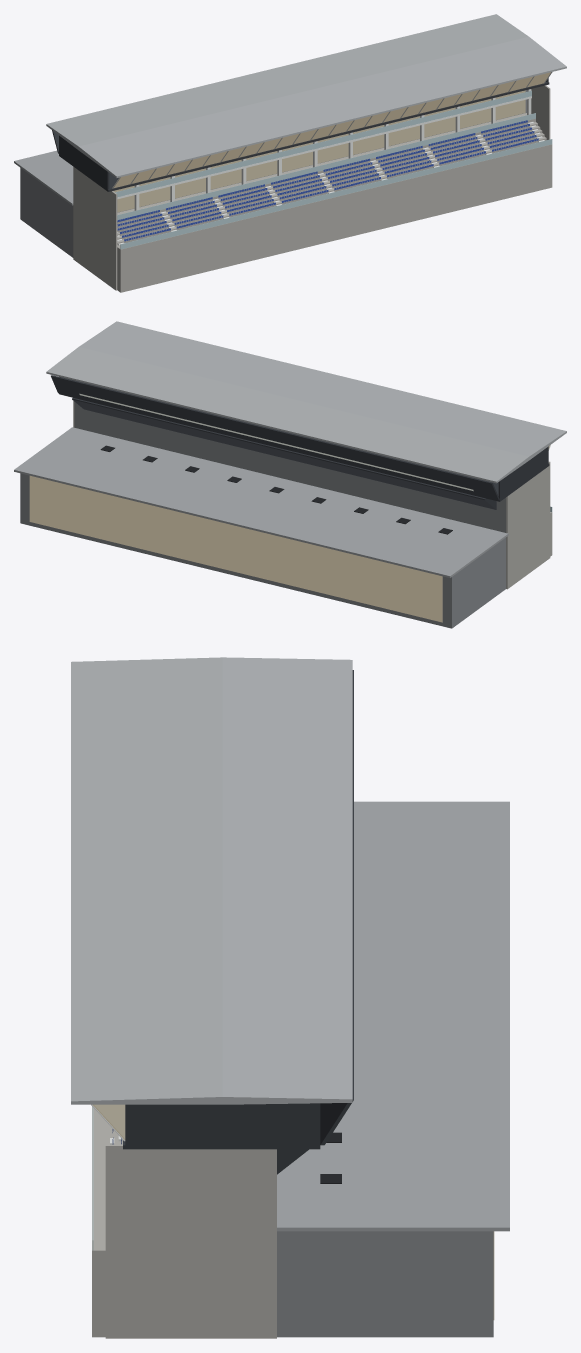
Rendered from rbr_sz_centre_c.glb.
The picture shows the model from 3 angles, top to bottom: view 1: azimuth 30°, elevation 25°; view 2: azimuth 150°, elevation 25°; view 3: azimuth 270°, elevation 25°; orthographic projection. The views are drawn at different scales.
Parts seen in each view (by area): view 1: red-bull-ring-start-ziel-wing; view 2: red-bull-ring-start-ziel-wing; view 3: red-bull-ring-start-ziel-wing.
Part boxes in pixels (x1,y1,x2,y2): red-bull-ring-start-ziel-wing: [14, 14, 566, 292]; red-bull-ring-start-ziel-wing: [14, 321, 566, 628]; red-bull-ring-start-ziel-wing: [71, 657, 509, 1338].
Bounding box in the file's own units: 96 × 25.4 × 40.5.
